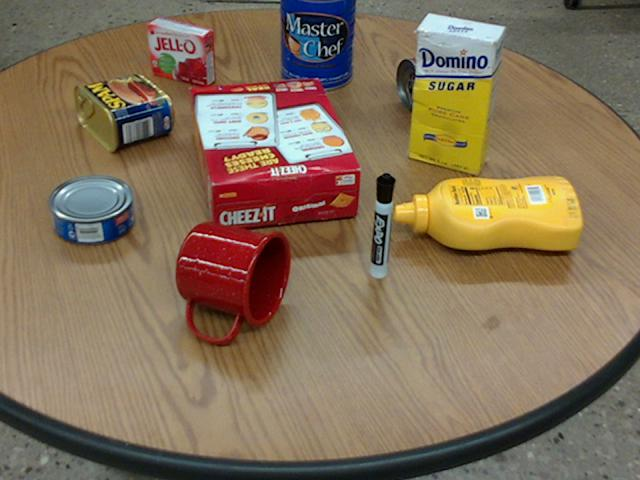cracker_box: (188, 78, 361, 230)
gelatin_box: (147, 17, 215, 85)
large_marker: (370, 172, 394, 278)
master_chef_can: (281, 0, 355, 89)
mug: (173, 222, 288, 341)
mustard_bottle: (394, 176, 581, 249)
potted_meat_can: (73, 74, 171, 150)
sugar_box: (409, 13, 504, 174)
tomato_soup_can: (396, 46, 486, 109)
tuna_fish_can: (48, 174, 132, 243)
